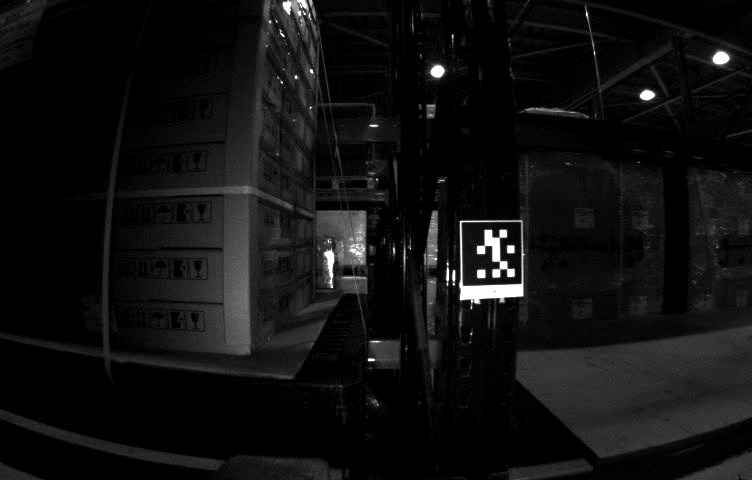True Barcode: (81, 296, 114, 335)
